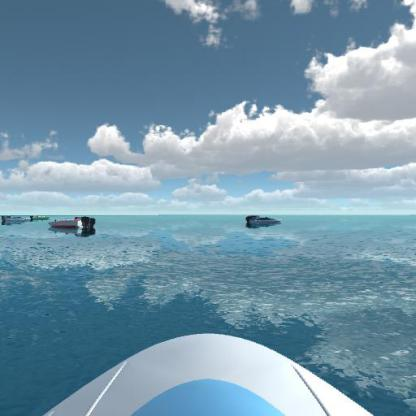usv0: (28, 212, 49, 221)
usv1: (244, 213, 286, 232), (0, 211, 29, 225)
usv3: (48, 216, 99, 234)
